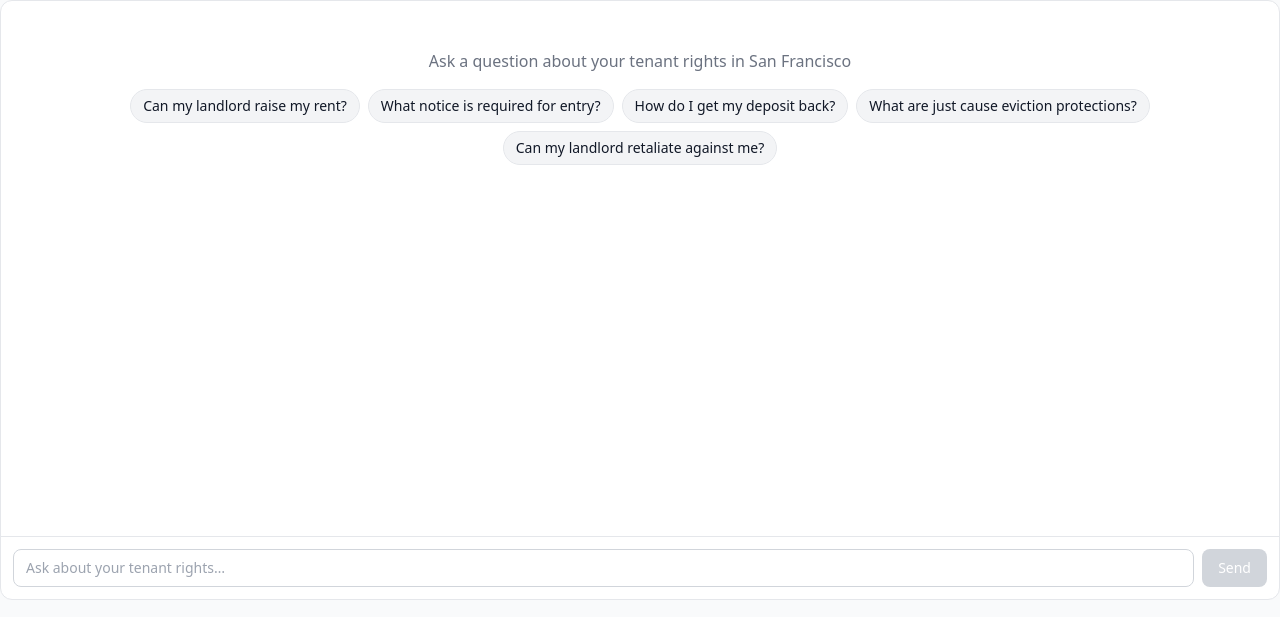
Scenario: RightsChat › disables the Send button while a request is loading
Type "Test question" into the field with placeholder "Ask about your tenant rights…" at x=604, y=568, box left=13, top=549, right=1194, bottom=587
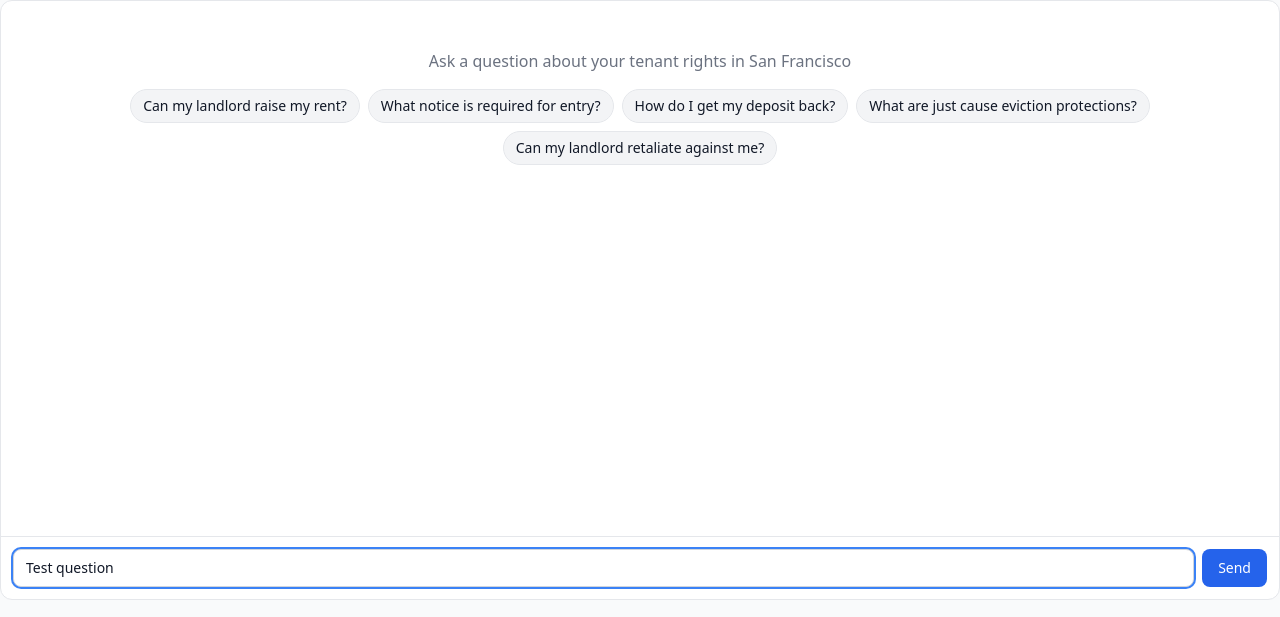
Click the button "Send" at x=1235, y=568, box left=1202, top=549, right=1267, bottom=587
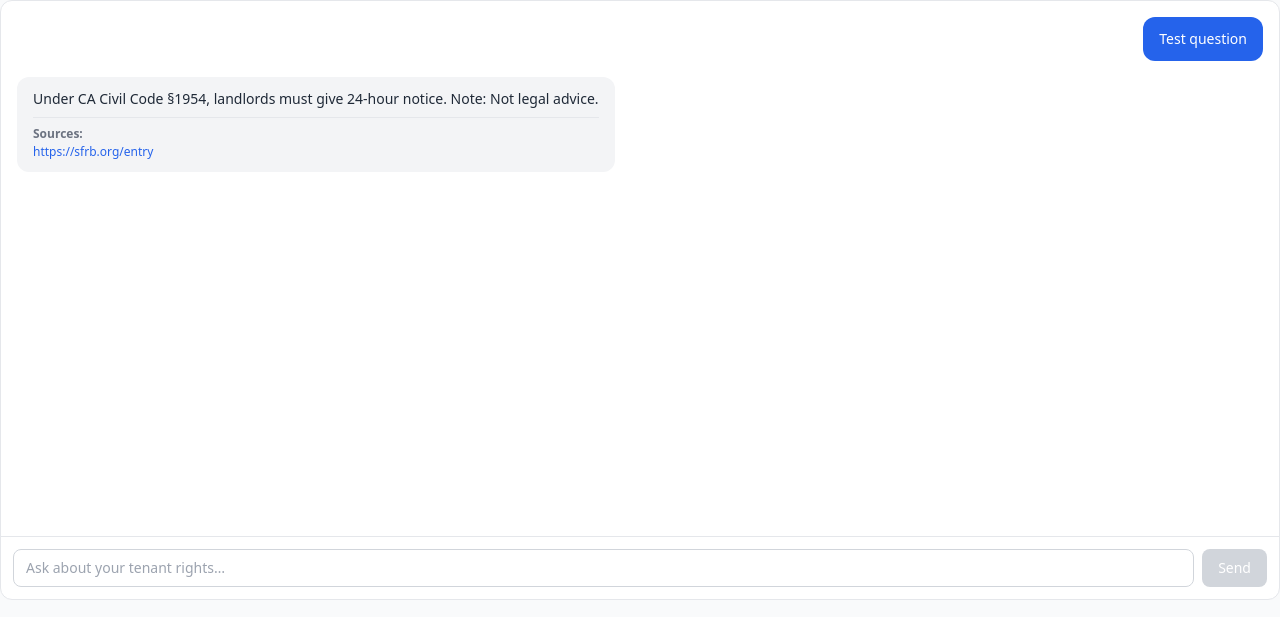
Check: the button "Send" is disabled, box left=1202, top=549, right=1267, bottom=587
